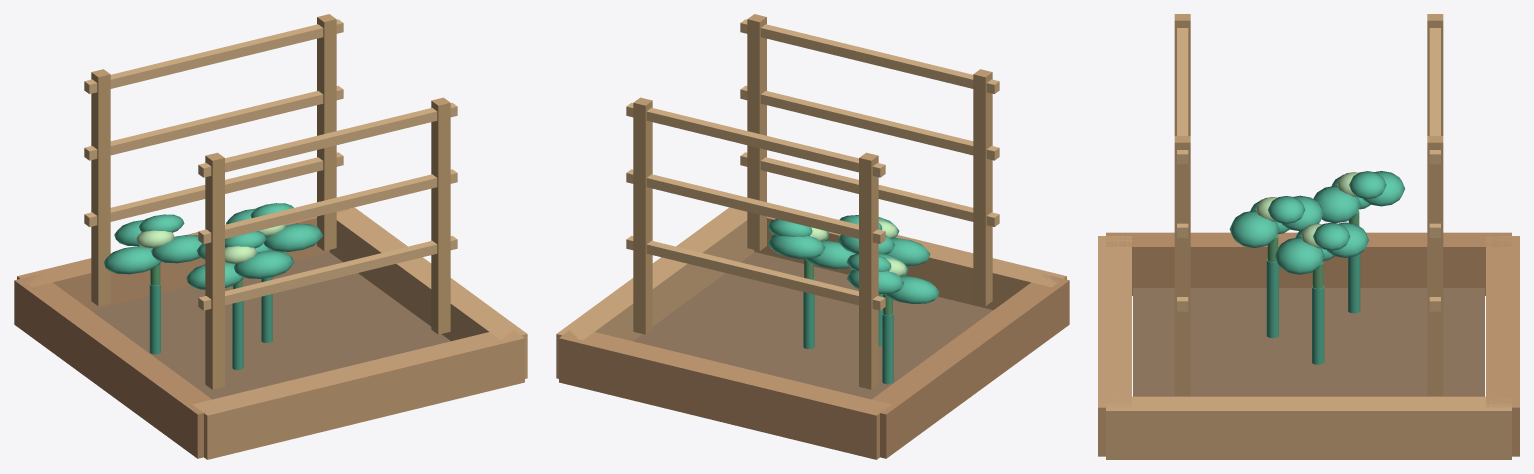
The model's file is crop_vine_early.glb.
3 views of the same model, side by side, from view 1: azimuth 30°, elevation 25°; view 2: azimuth 150°, elevation 25°; view 3: azimuth 270°, elevation 25° (orthographic). The views are drawn at different scales.
Bounding box in the file's own units: 0.935 × 0.751 × 0.935.
